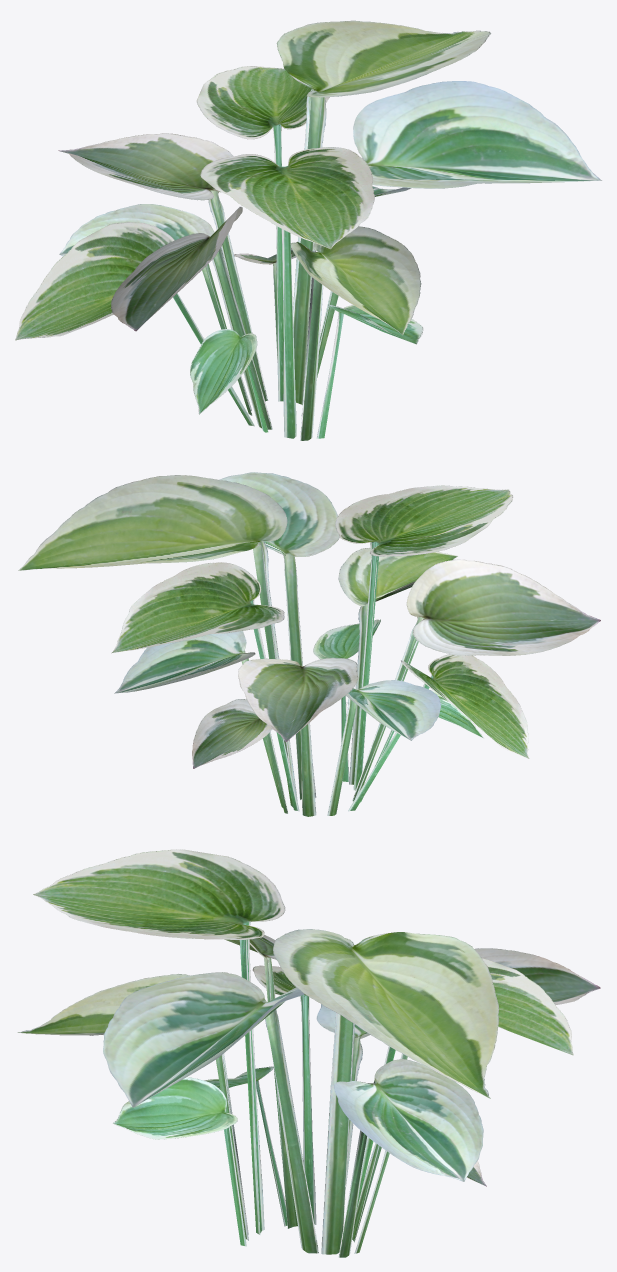
Rendered from plant_small_wg_00I.fbx.
3 renders of one model, top to bottom at view 1: azimuth 30°, elevation 25°; view 2: azimuth 150°, elevation 25°; view 3: azimuth 270°, elevation 25°, orthographic. The views are drawn at different scales.
Parts seen in each view (by area): view 1: plant_small_wg_00I; view 2: plant_small_wg_00I; view 3: plant_small_wg_00I.
Part boxes in pixels (<box>): plant_small_wg_00I: <box>15,20,601,440</box>; plant_small_wg_00I: <box>18,472,600,816</box>; plant_small_wg_00I: <box>17,849,600,1257</box>.
Bounding box in the file's own units: 62.35 × 37.85 × 56.81.
1 material, 1 textured.
